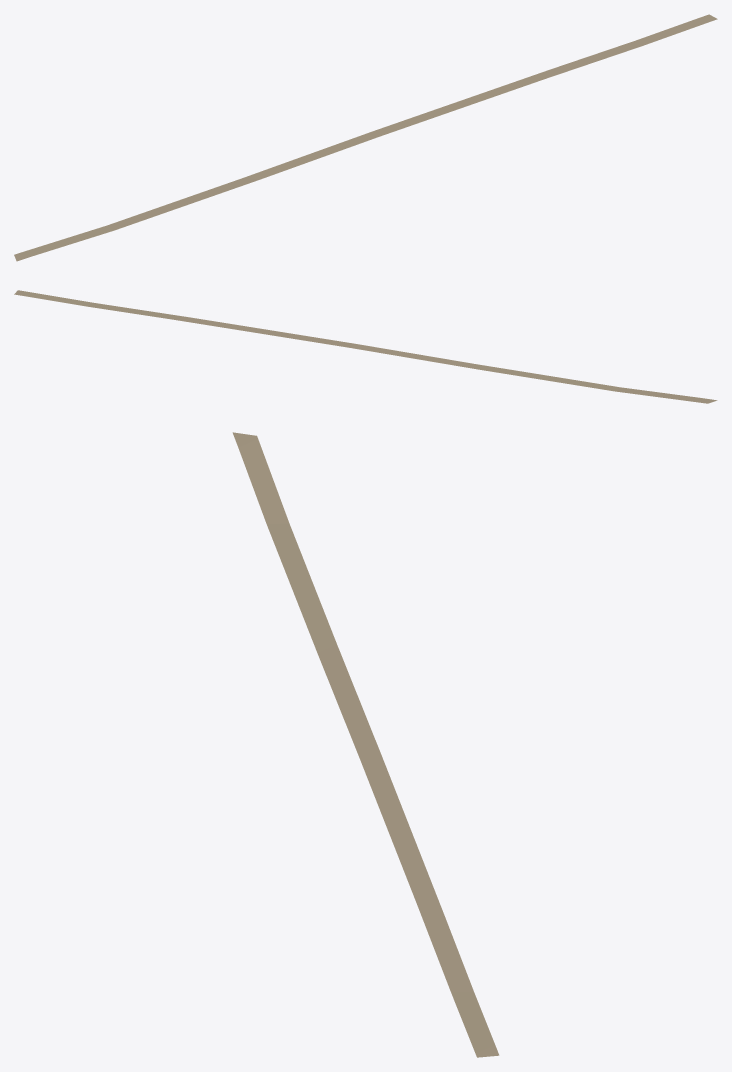
The model's file is farm_24_10_track.glb.
3 views of the same model, one above another, from view 1: azimuth 30°, elevation 25°; view 2: azimuth 150°, elevation 25°; view 3: azimuth 270°, elevation 25° (orthographic). The views are drawn at different scales.
Visible parts, largest first — view 1: geometry_0; view 2: geometry_0; view 3: geometry_0.
Part boxes in pixels (x1,y1,x2,y2): geometry_0: (14,14,717,261); geometry_0: (14,290,717,403); geometry_0: (232,432,499,1057).
Bounding box in the file's own units: 212 × 0.8123 × 38.42.
